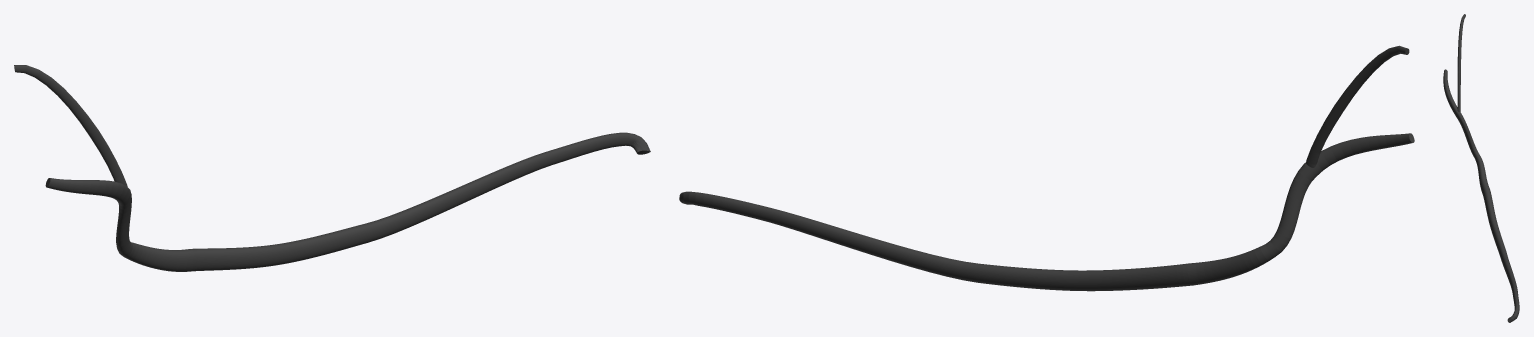
The model's file is N_6_abducens.glb.
3 renders of one model, left to right at view 1: azimuth 30°, elevation 25°; view 2: azimuth 150°, elevation 25°; view 3: azimuth 270°, elevation 25°, orthographic. The views are drawn at different scales.
Visible parts, largest first — view 1: N_6_abducens; view 2: N_6_abducens; view 3: N_6_abducens.
Boxes of the visible parts, x1,y1,x2,y2 form: N_6_abducens: (14,65,650,271); N_6_abducens: (679,45,1414,291); N_6_abducens: (1443,14,1519,322).
Bounding box in the file's own units: 0.0306 × 0.0129 × 0.00594.
Materials: 1 (1 with a texture image).
